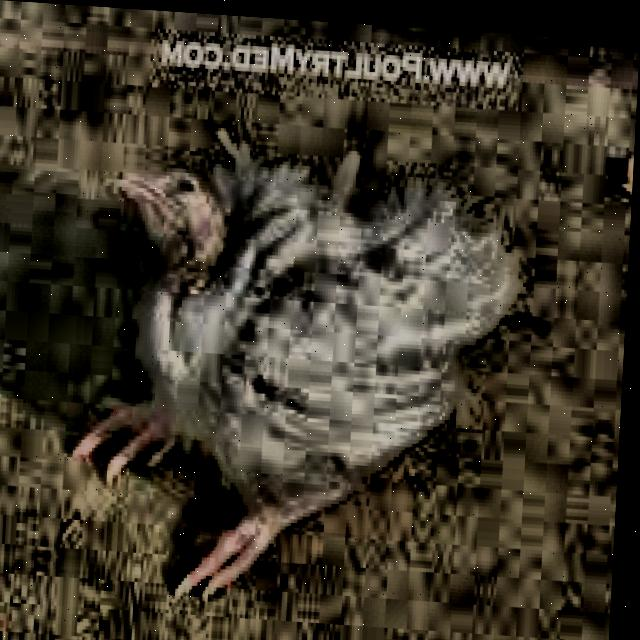Newcastle: (92, 144, 274, 454)
